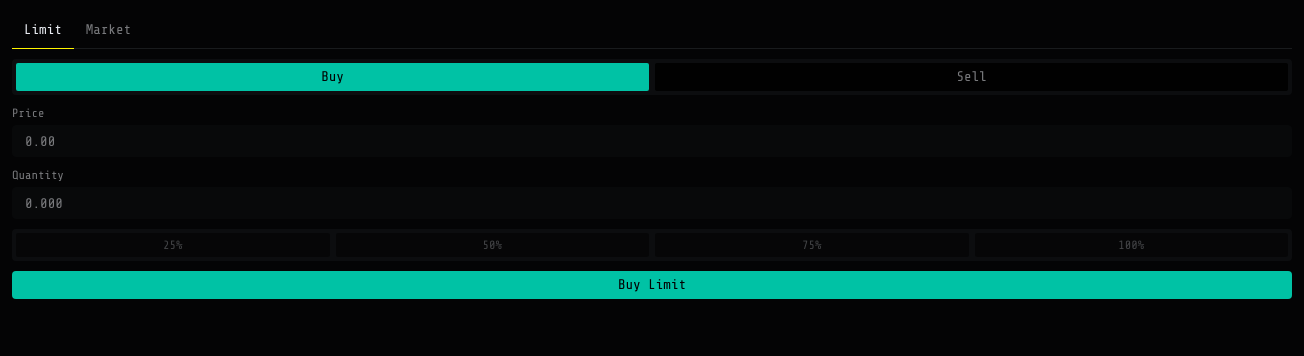
OrderForm › shows quantity validation error when submitting empty form
Step 1. Click the button "Buy Limit" → (652, 285), box [12,271,1292,299]
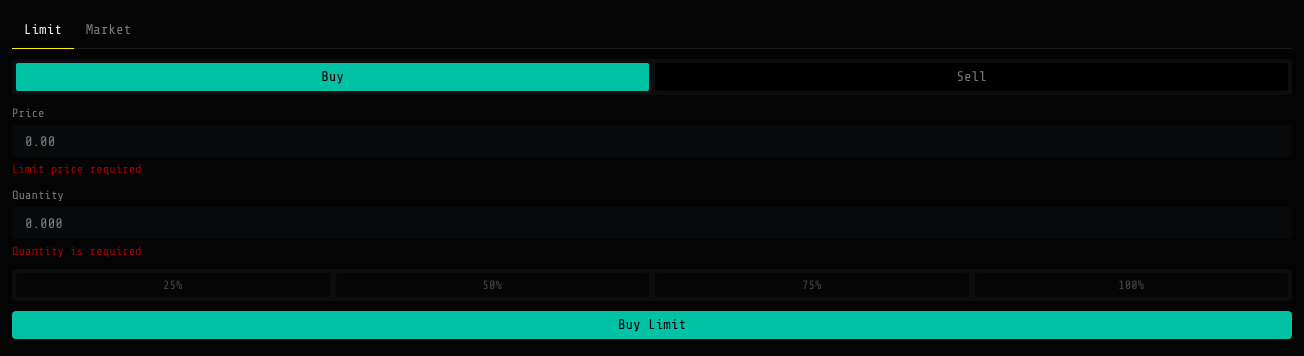
expect the message "Limit price required" is shown: met, box [12,162,142,176]
